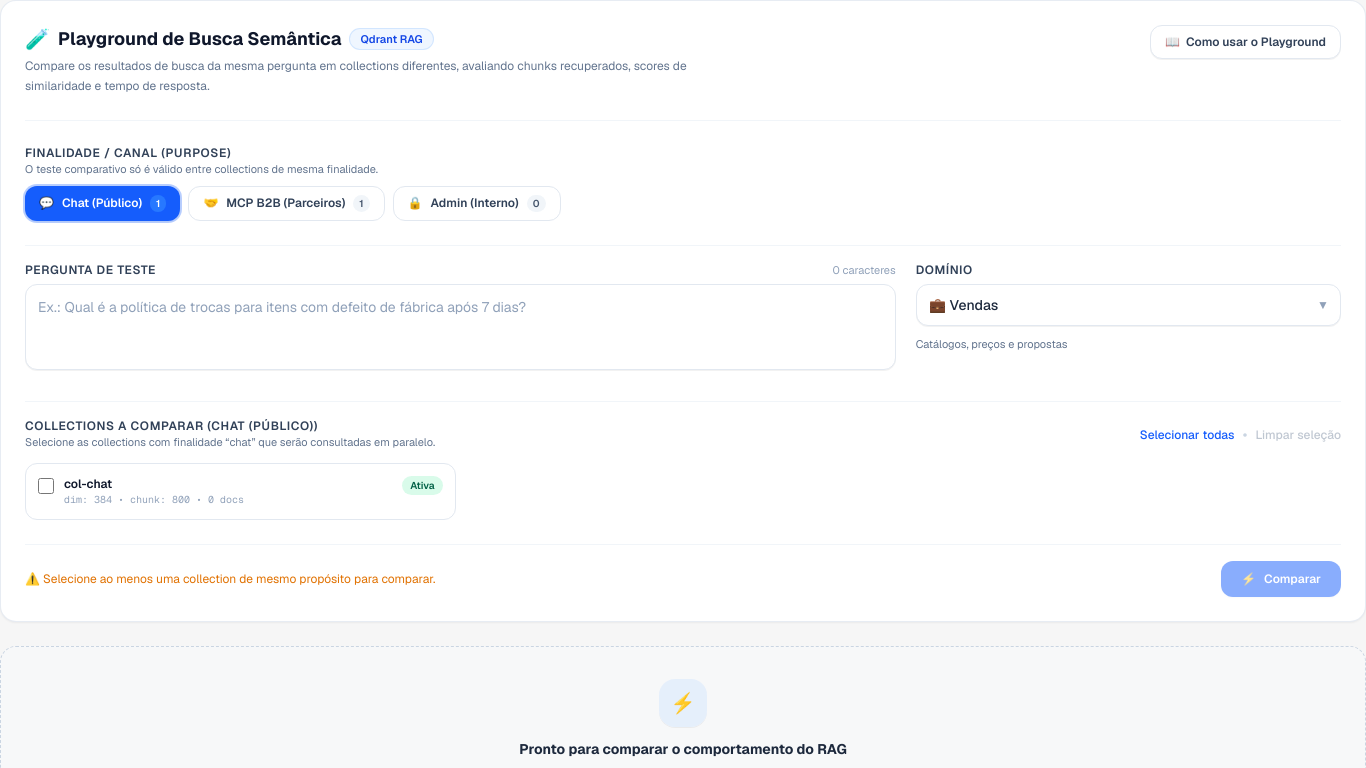
it: PlaygroundPanel › filtra collections por purpose garantindo comparação apenas entre mesmo canal
Expected: the checkbox labelled "col-chat" is shown, [38, 478, 54, 494]
Expected: the field labelled "col-b2b" is not shown
Alterna para 'MCP B2B (Parceiros)'
Click the button "🤝 MCP B2B (Parceiros) 1" at (286, 203), box [188, 186, 385, 221]
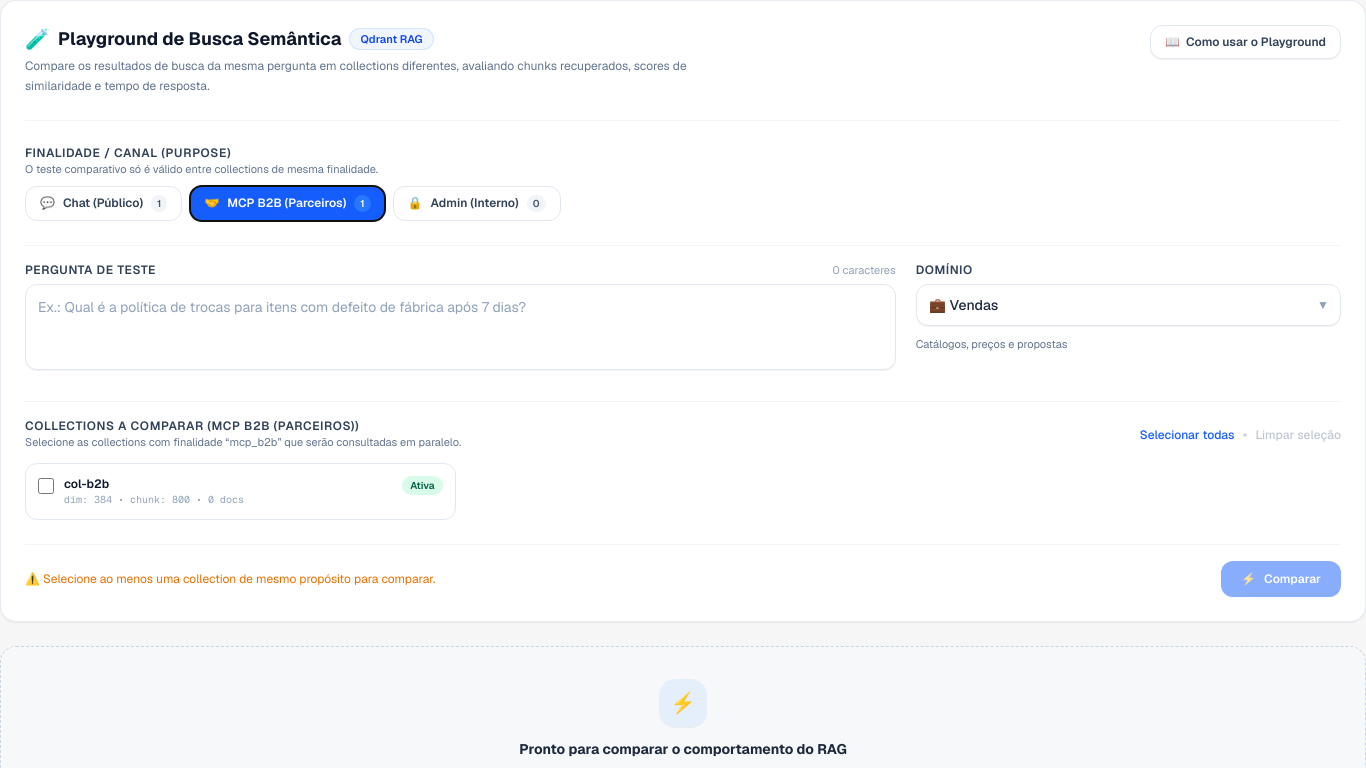
Expected: the checkbox labelled "col-b2b" is shown, [38, 478, 54, 494]
Now the text labelled "col-chat" is gone
